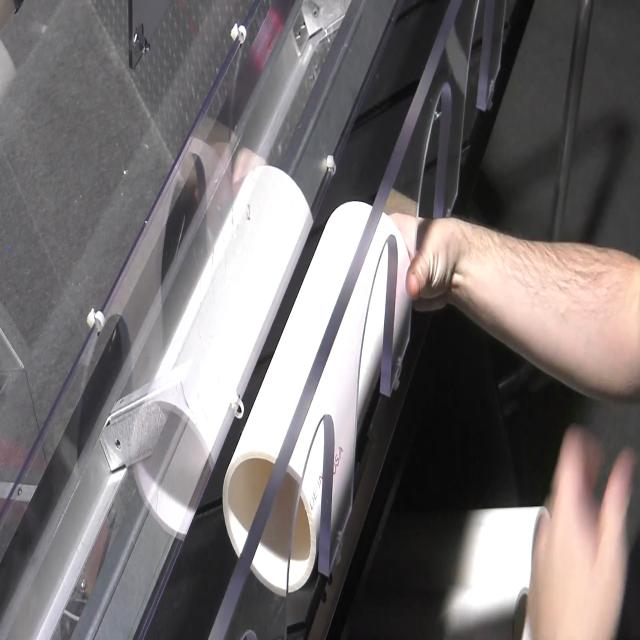Coral: (221, 197, 413, 597)
